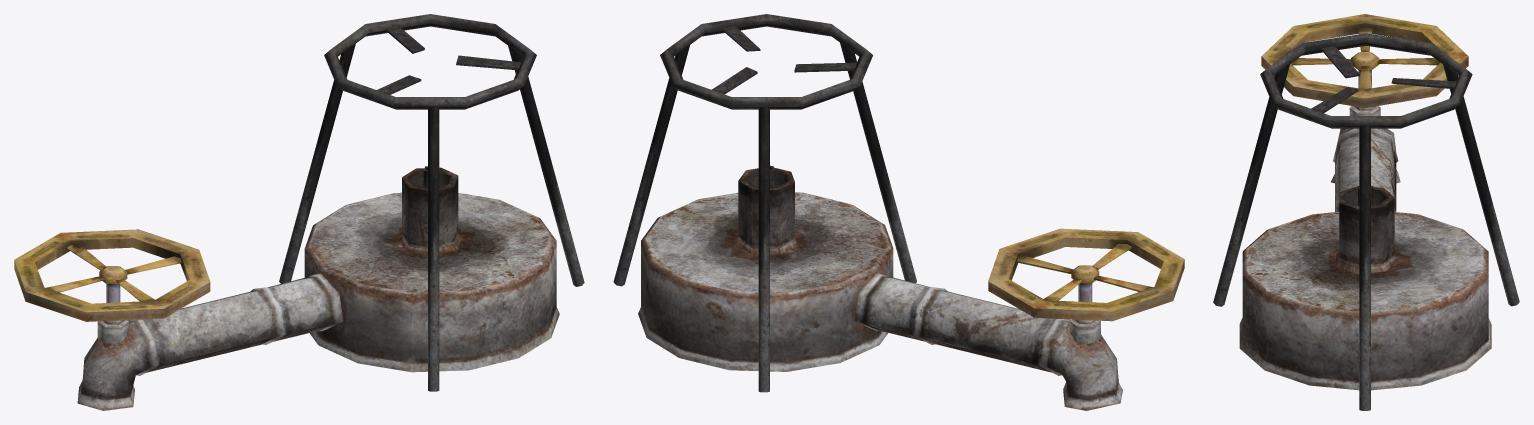
File: special_burner.dae
3 views of the same model, side by side, from view 1: azimuth 30°, elevation 25°; view 2: azimuth 150°, elevation 25°; view 3: azimuth 270°, elevation 25° (orthographic).
Visible parts, largest first — view 1: burner, wheel; view 2: burner, wheel; view 3: burner, wheel.
Boxes of the visible parts, <box> form: burner: <box>77,14,584,410</box>; wheel: <box>14,229,210,321</box>; burner: <box>613,14,1122,410</box>; wheel: <box>988,228,1184,321</box>; burner: <box>1213,33,1519,410</box>; wheel: <box>1261,14,1468,107</box>.
Size of the model in its own units: 1.13 by 0.5378 by 0.5094.
